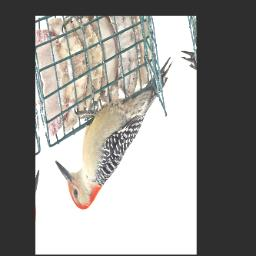Woodpecker: (47, 53, 189, 222)
